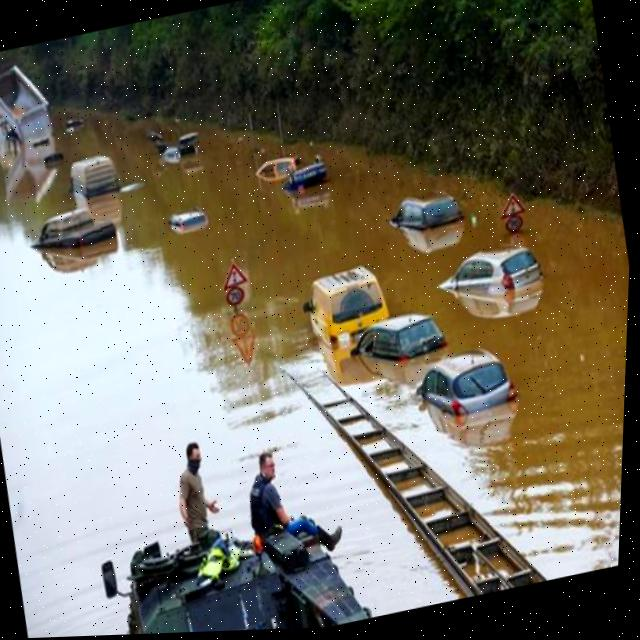civilian: (228, 424, 374, 572), (143, 425, 248, 562)
